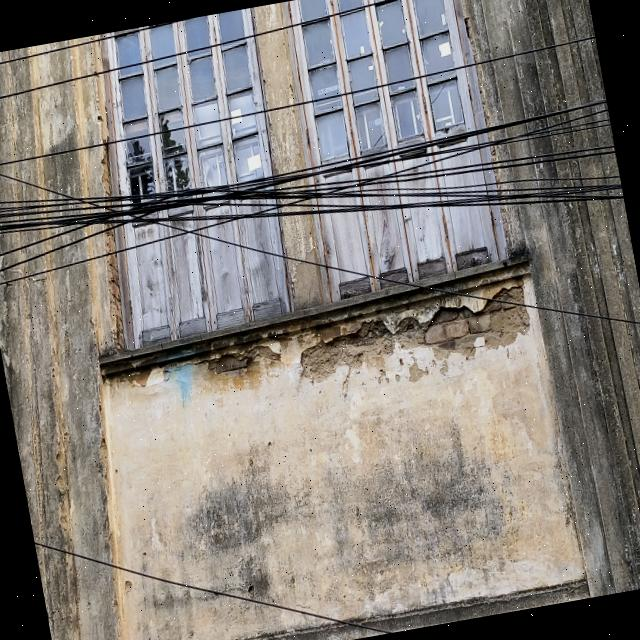Paint Peeling: (298, 286, 529, 382), (208, 345, 285, 375)
